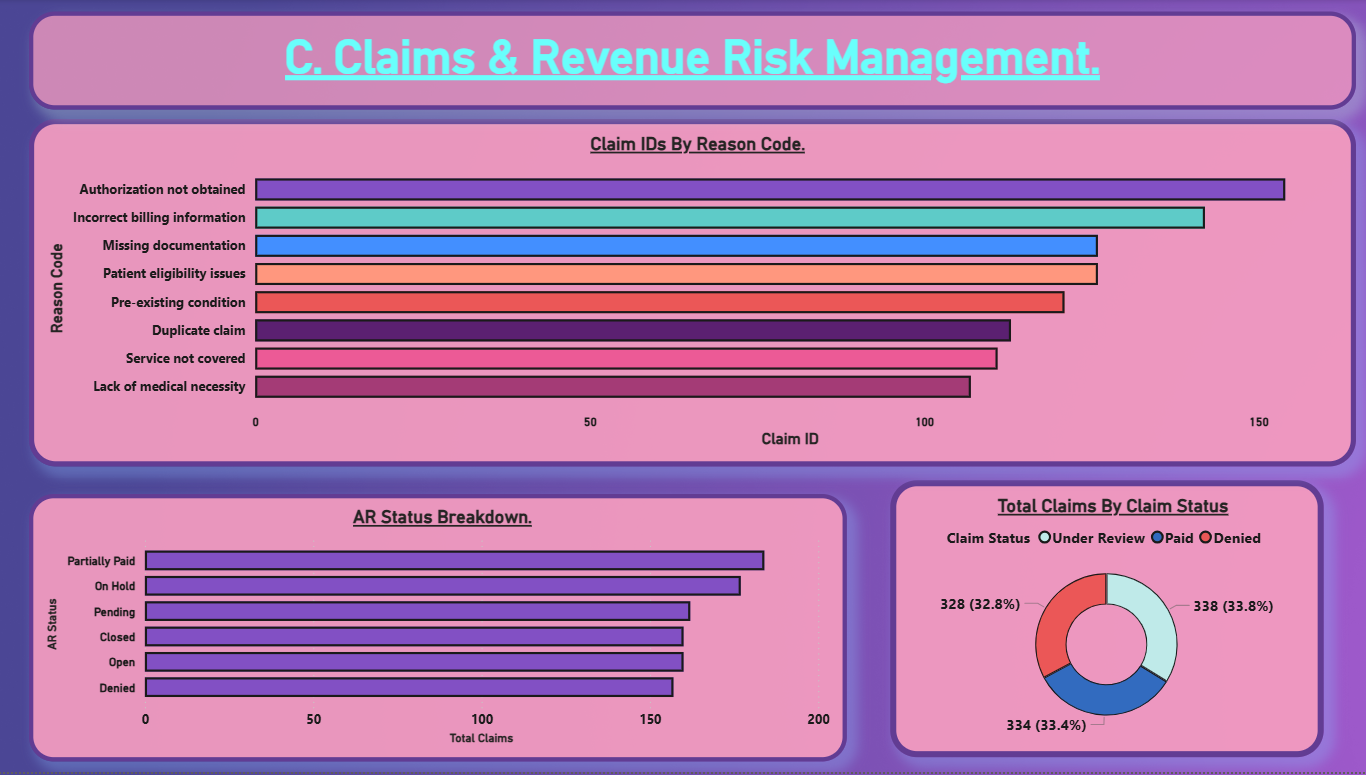

What the dashboard file says about the page in this screenshot:
{"tool":"powerbi","page":{"name":"C. Risk Managment","canvas":[1280,720],"ordinal":2},"visuals":[{"type":"donutChart","title":"Total Claims By Claim Status","fields":{"Category":["claims_data_cleaned.Claim Status"],"Y":["CountNonNull(claims_data_cleaned.Claim ID)"]},"box":[833.5,447.8,403.4,257.5],"z":0},{"type":"barChart","title":" Claim IDs By Reason Code.","fields":{"Category":["claims_data_cleaned.Reason Code"],"Y":["CountNonNull(claims_data_cleaned.Claim ID)"],"Series":["claims_data_cleaned.Reason Code"]},"box":[33,111.6,1234.3,323.5],"z":1000},{"type":"barChart","title":"AR Status Breakdown.","fields":{"Category":["claims_data_cleaned.AR Status"],"Y":["CountNonNull(claims_data_cleaned.Claim ID)"]},"box":[33,460.5,761.1,248.6],"z":2000},{"type":"textbox","box":[33,11.4,1234.3,91.3],"z":2001}]}

Visuals, with their boxes in screenshot pixels (x1, y1, x2, y2), scaled from the page's 1280x720 canvas onto the 1366x775 screenshot:
"Total Claims By Claim Status" donutChart: crop(890, 482, 1320, 759)
" Claim IDs By Reason Code." barChart: crop(35, 120, 1352, 468)
"AR Status Breakdown." barChart: crop(35, 496, 847, 763)
textbox: crop(35, 12, 1352, 111)
